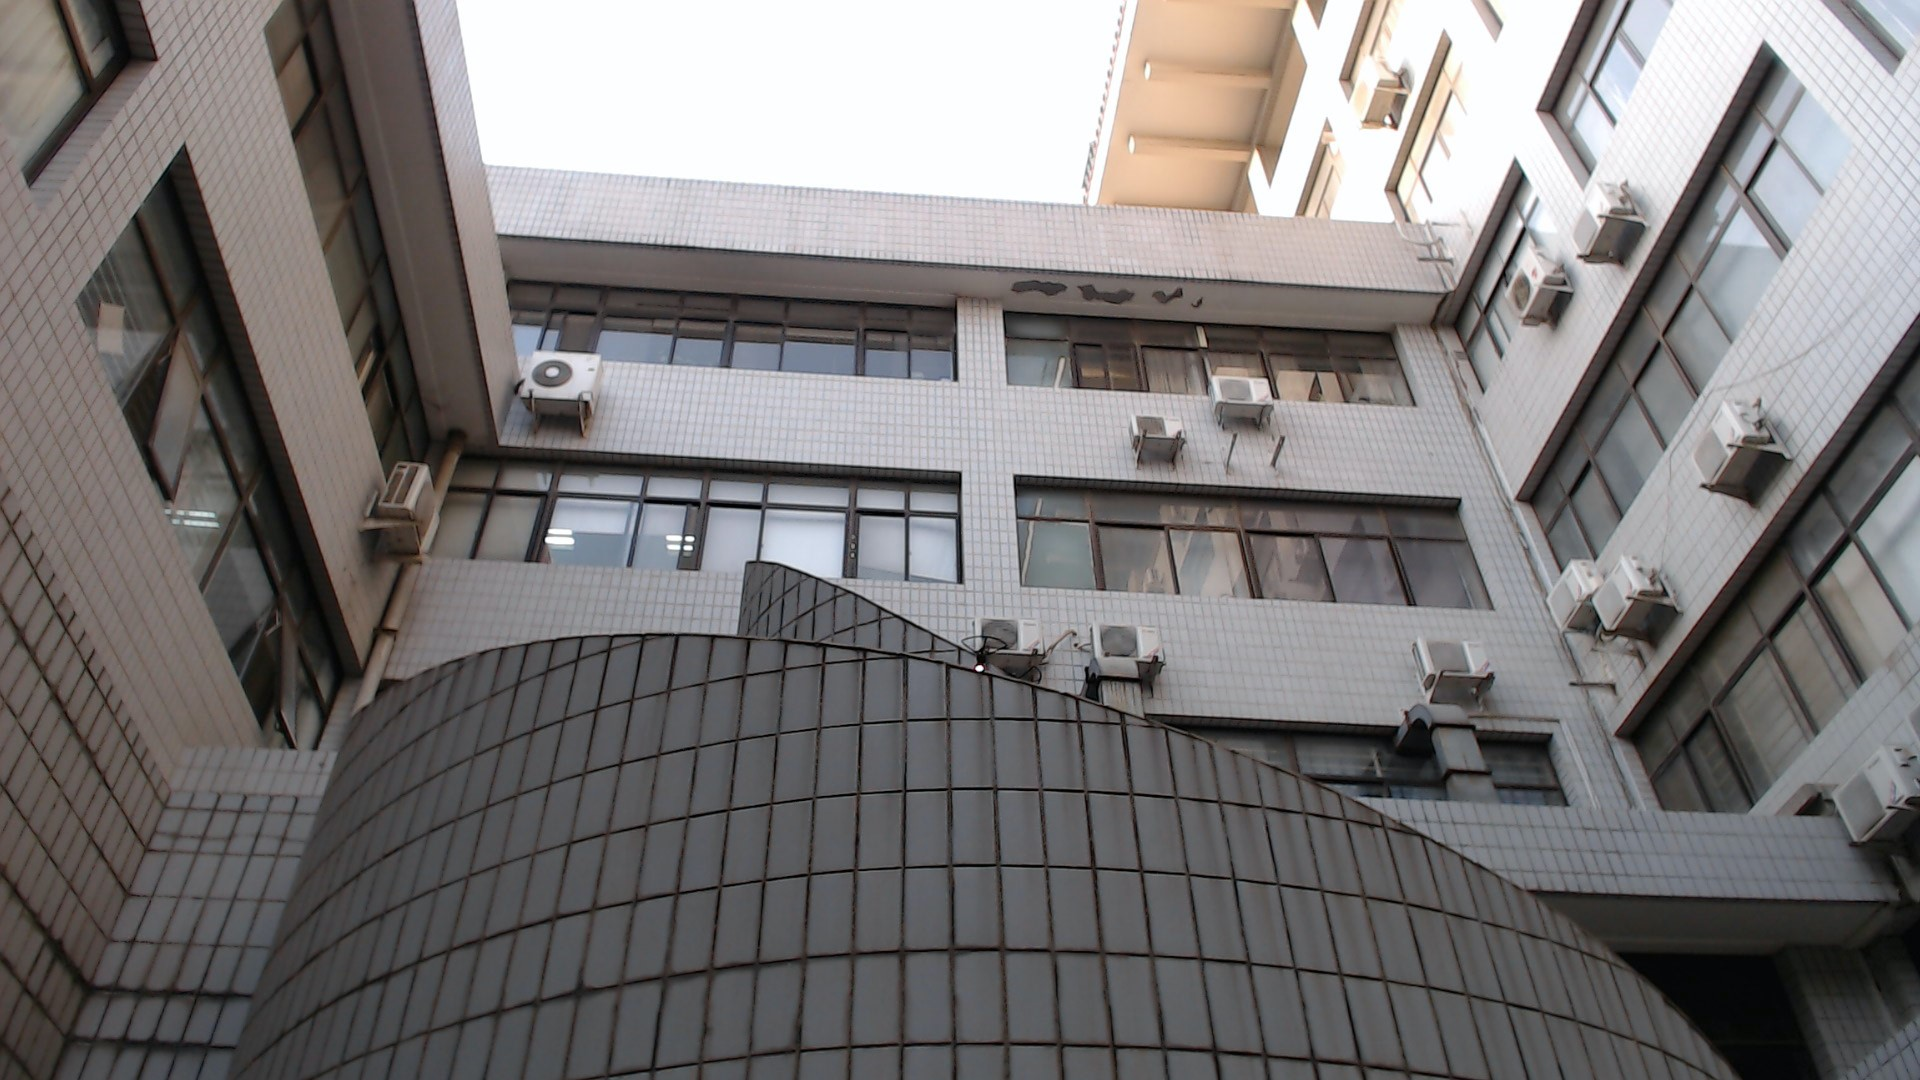drone: (930, 608, 1055, 708)
